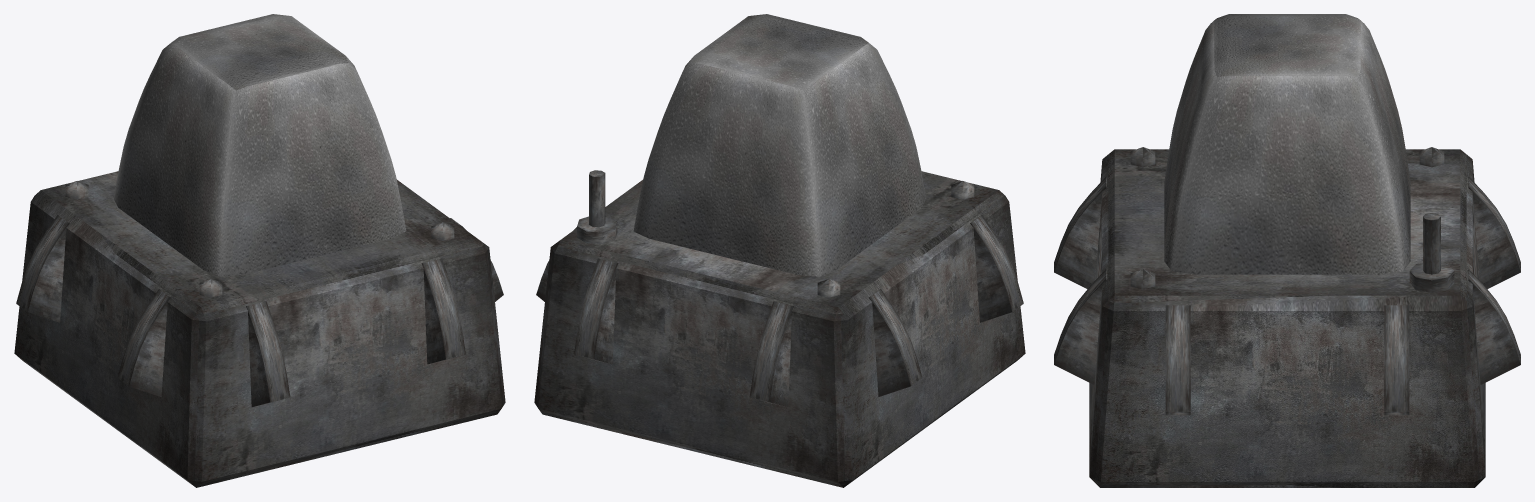
Rendered from static.fbx.
3 views of the same model, side by side, from view 1: azimuth 30°, elevation 25°; view 2: azimuth 150°, elevation 25°; view 3: azimuth 270°, elevation 25° (orthographic). The views are drawn at different scales.
Visible parts, largest first — view 1: Cube, Cube_1_5, Cube_1_2, Cube_1; view 2: Cube, Cube_1_5, Cube_1_2, Cube_1_3, Cylinder_1, Cylinder; view 3: Cube, Cube_1_5, Cube_1_3, Cube_1, Cube_1_4, Cylinder_1, Cylinder.
Boxes of the visible parts, box(x1,y1,x2,y2) form: Cube: box(14, 171, 505, 487); Cube_1_5: box(113, 14, 406, 276); Cube_1_2: box(16, 215, 170, 396); Cube_1: box(246, 258, 465, 407); Cube: box(534, 171, 1025, 487); Cube_1_5: box(633, 14, 926, 276); Cube_1_2: box(869, 215, 1023, 396); Cube_1_3: box(574, 258, 793, 407); Cylinder_1: box(589, 170, 605, 227); Cylinder: box(577, 216, 617, 243); Cube: box(1089, 149, 1485, 487); Cube_1_5: box(1164, 14, 1410, 274); Cube_1_3: box(1468, 177, 1520, 384); Cube_1: box(1054, 177, 1106, 384); Cube_1_4: box(1165, 305, 1409, 415); Cylinder_1: box(1423, 213, 1440, 274); Cylinder: box(1409, 263, 1454, 292).
Bounding box in the file's own units: 204 × 177 × 204.
2 materials, 2 textured.
